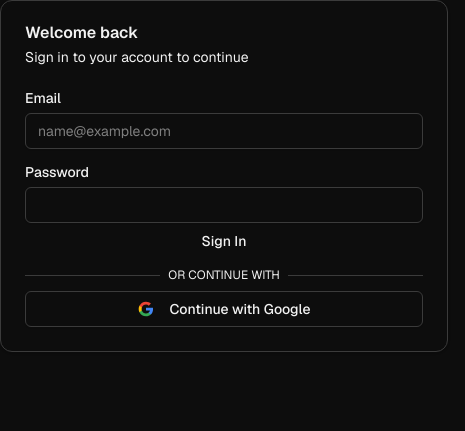
Test: Authentication Components › LoginForm › should display error message on login failure
This screenshot has width=465, height=431.
In the field labelled "Email": {"x": 224, "y": 131} [25, 113, 423, 149], type "john@example.com"
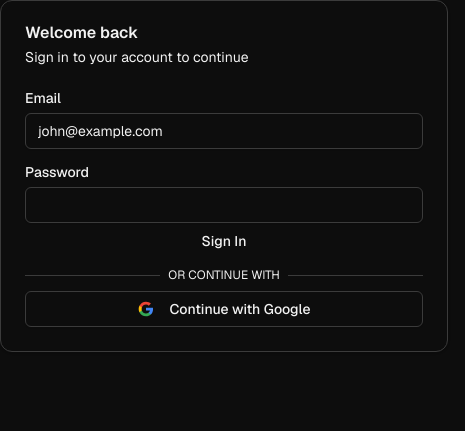
In the password field labelled "Password": {"x": 224, "y": 205} [25, 187, 423, 223], type "wrongpassword"
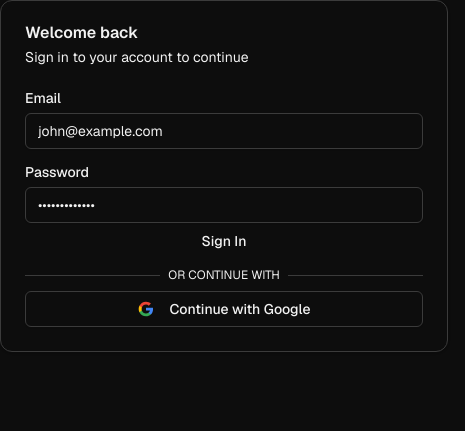
Click the button "Sign In": {"x": 224, "y": 241} [25, 223, 423, 259]
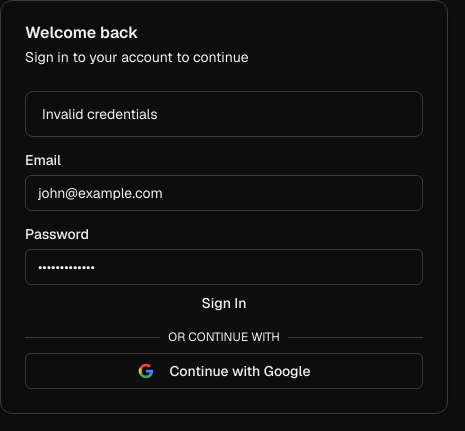
Check: the text "Invalid credentials" is shown, box [42, 105, 158, 123]
